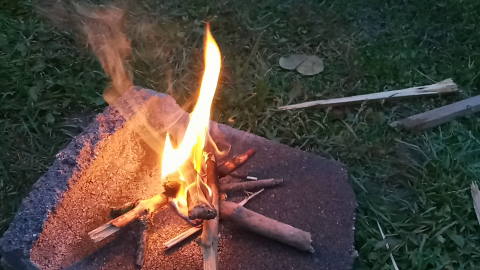fire: (138, 11, 232, 209)
